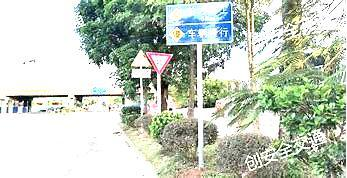sign: (166, 5, 232, 44)
